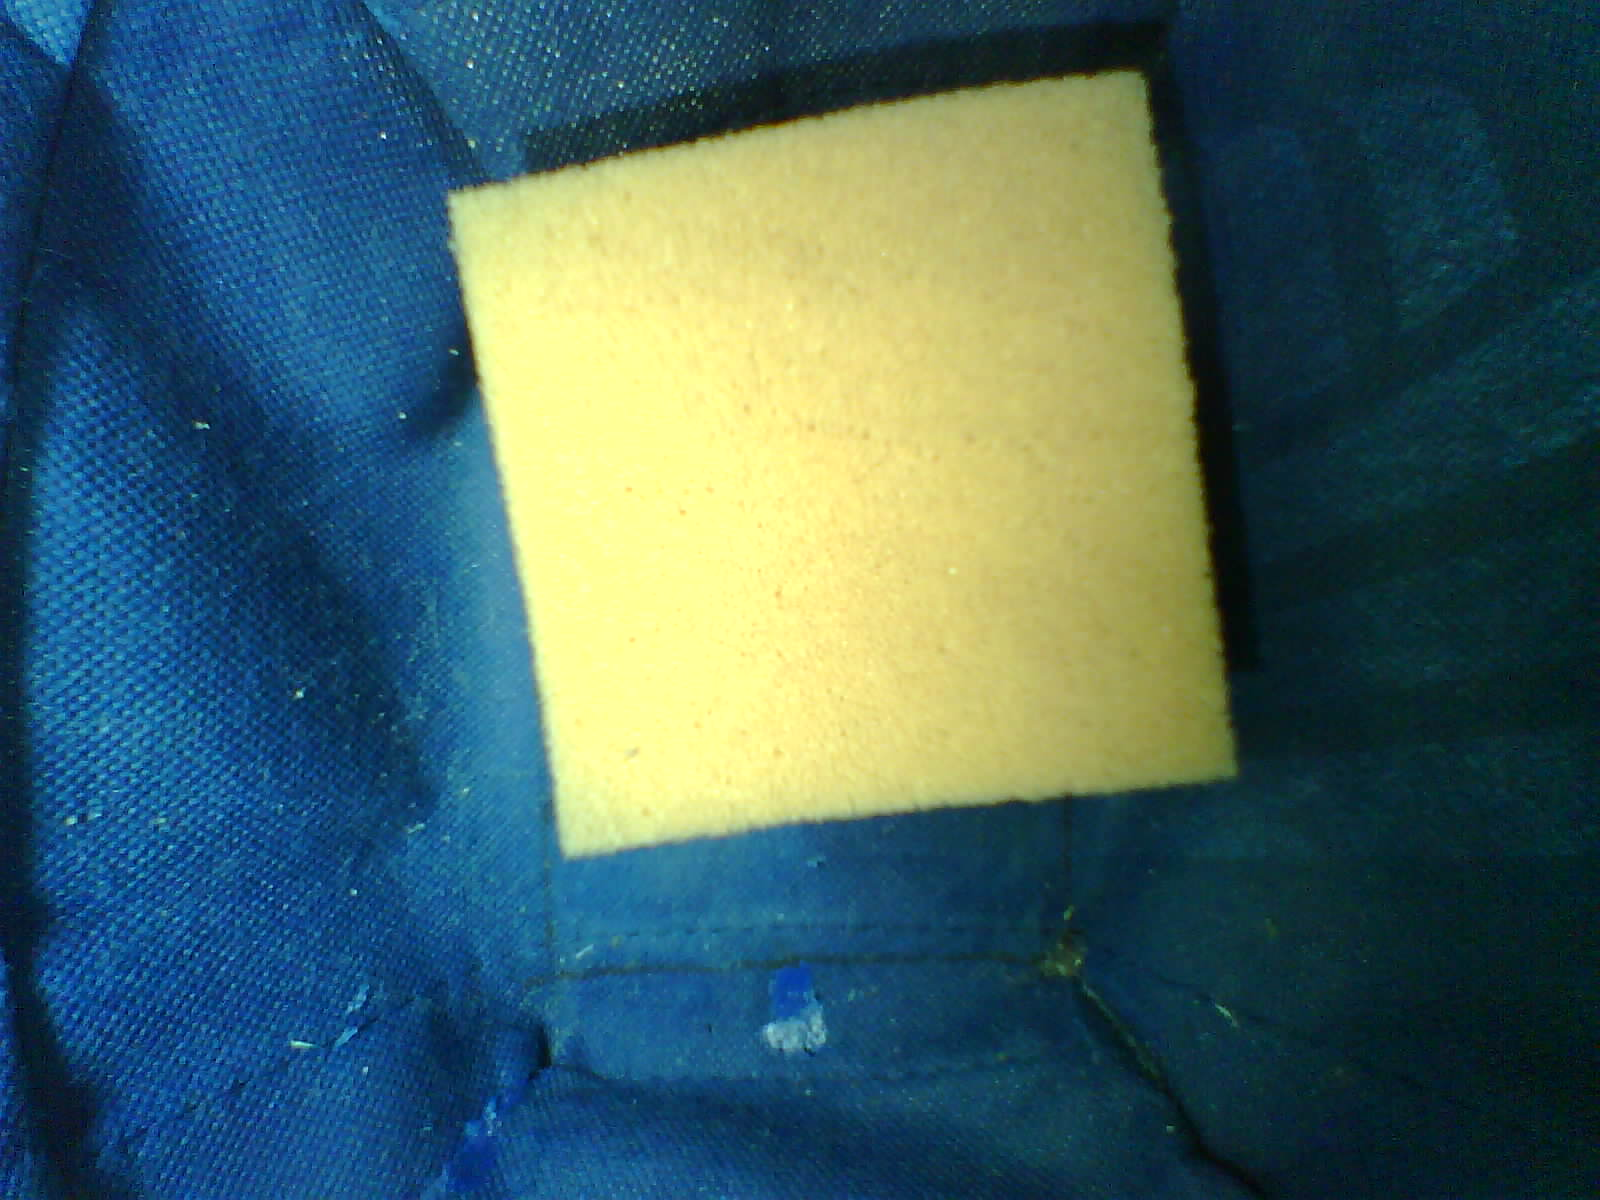cube-soft: (433, 54, 1259, 881)
